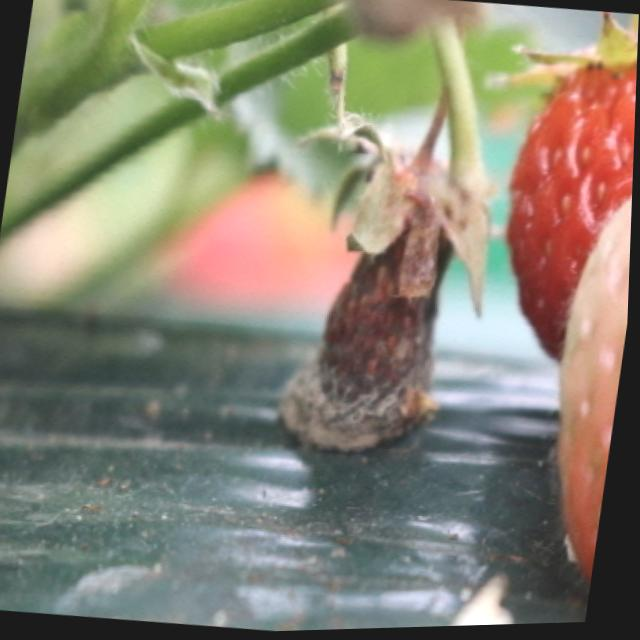Gray Mold: (279, 111, 490, 458)
